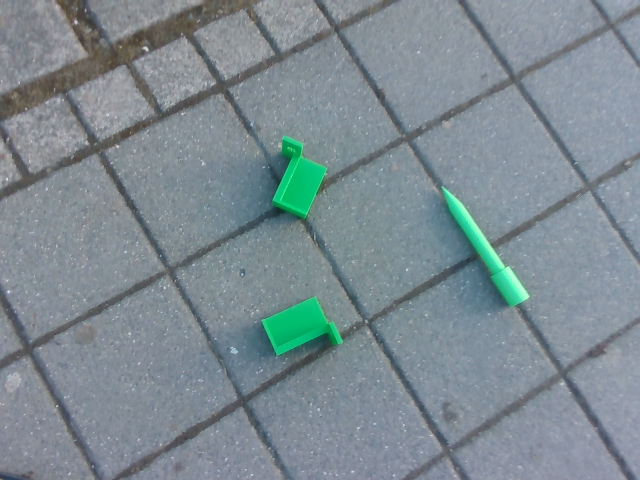Probe: (437, 176, 532, 313)
